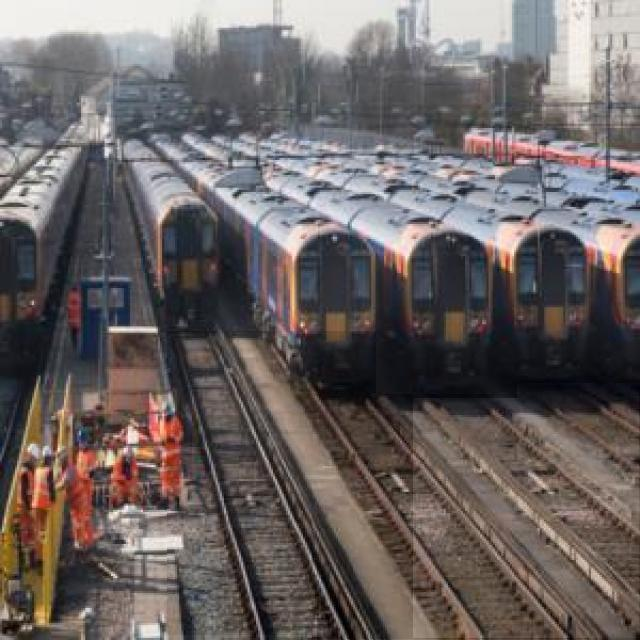rail: (314, 396, 591, 640), (168, 333, 377, 636), (414, 399, 640, 639), (519, 385, 640, 489)
